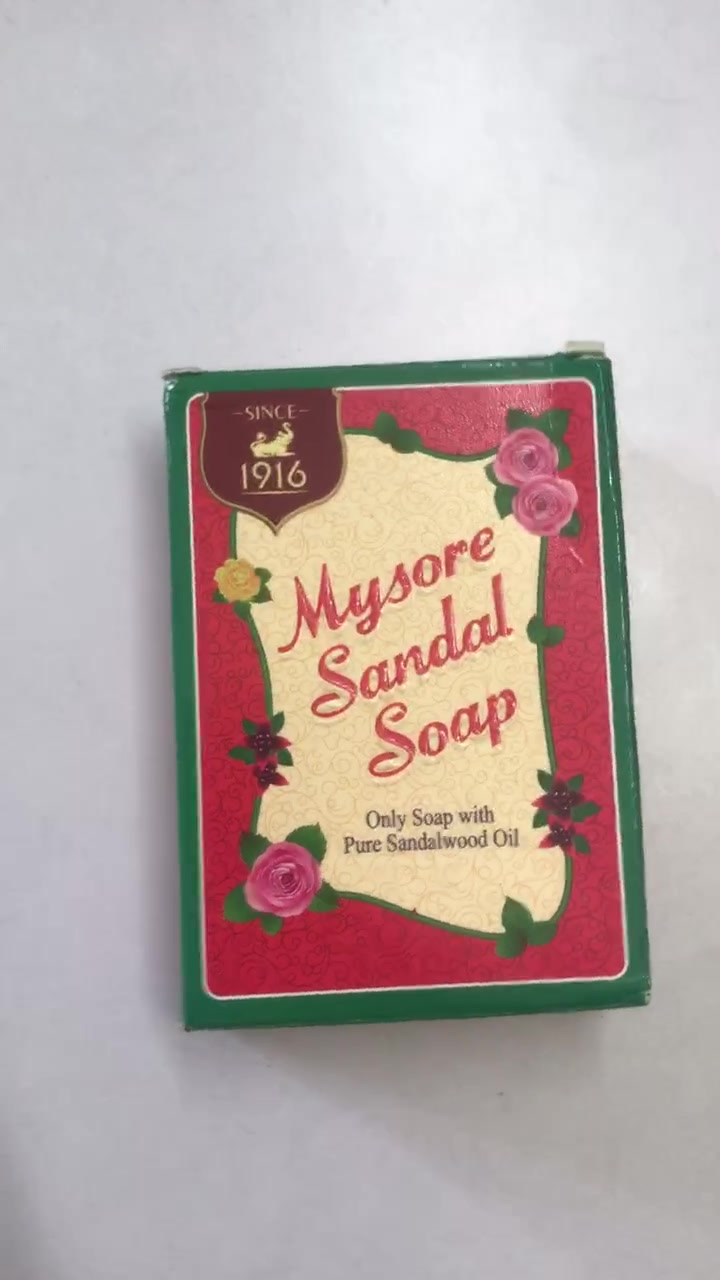mysore sandal soap: (159, 359, 649, 1025)
